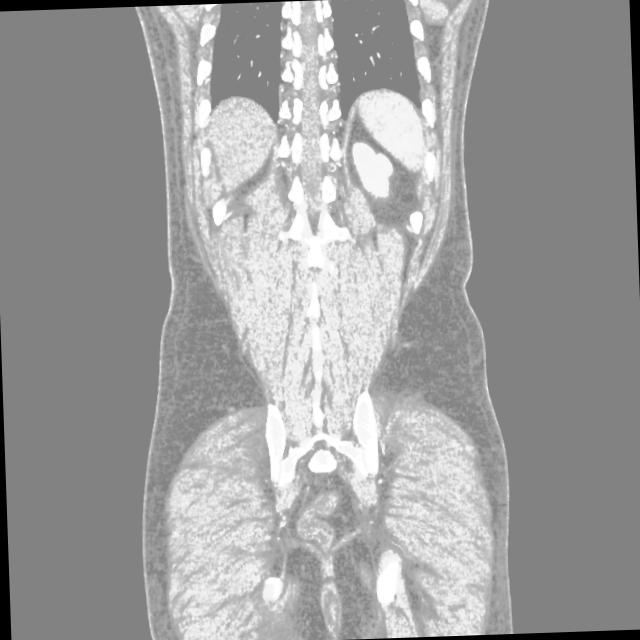NORMAL: (90, 65, 552, 409)
